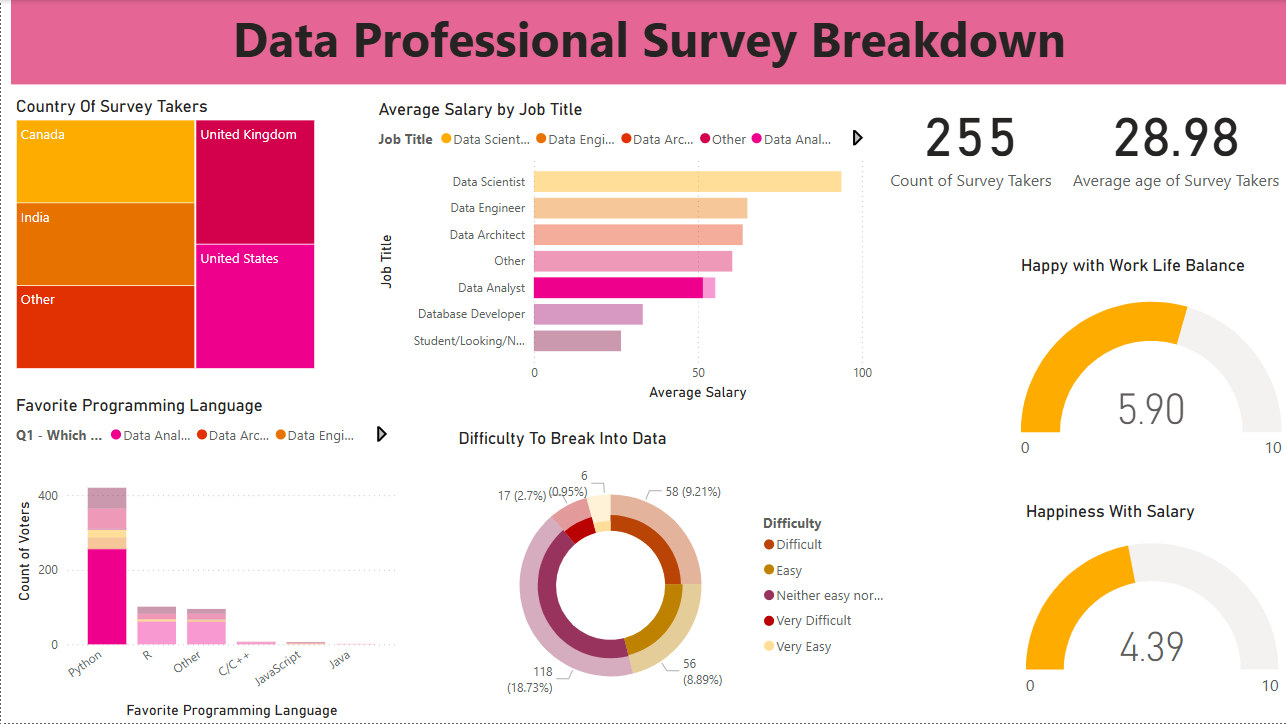

This screenshot's page, from the dashboard's own definition file:
{"tool":"powerbi","page":{"name":"Page 1","canvas":[1280,720],"ordinal":0},"visuals":[{"type":"textbox","box":[9.6,0,1270.7,83.7],"z":0},{"type":"card","fields":{"Values":["CountNonNull(Data Professional Survey.Unique ID)"]},"box":[870,83.7,188,149.6],"z":1000},{"type":"card","fields":{"Values":["Avg(Data Professional Survey.Q10 - Current Age)"]},"box":[1058,85.1,222.3,148.2],"z":2000},{"type":"filledMap","title":"Average Salary by Job Title","fields":{"Series":["Data Professional Survey.Q11 - Which Country do you live in?.1"]},"box":[705.5,374.5,463.1,284.7],"z":3000},{"type":"columnChart","title":"Favorite Programming Language","fields":{"Category":["Data Professional Survey.Q5 - Favorite Programming Language.1"],"Y":["CountNonNull(Data Professional Survey.Unique ID)"],"Series":["Data Professional Survey.Q1 - Which Title Best Fits your Current Role?.1"]},"box":[9.5,498.5,341.9,222],"z":4000},{"type":"barChart","title":"Average Salary by Job Title","fields":{"Category":["Data Professional Survey.Q1 - Which Title Best Fits your Current Role?.1"],"Y":["Avg(Data Professional Survey.Average Salary)"],"Series":["Data Professional Survey.Q1 - Which Title Best Fits your Current Role?.1"]},"box":[9.5,84.4,603.4,373.2],"z":4001}]}

Visuals, with their boxes in screenshot pixels (x1, y1, x2, y2), scaled from the page's 1280x720 canvas onto the 1286x724 screenshot:
textbox: 10 0 1285 84
card - CountNonNull(Data Professional Survey.Unique ID): 874 84 1063 235
card - Avg(Data Professional Survey.Q10 - Current Age): 1063 86 1285 235
"Average Salary by Job Title" filledMap: 709 377 1174 663
"Favorite Programming Language" columnChart: 10 501 353 723
"Average Salary by Job Title" barChart: 10 85 616 460
